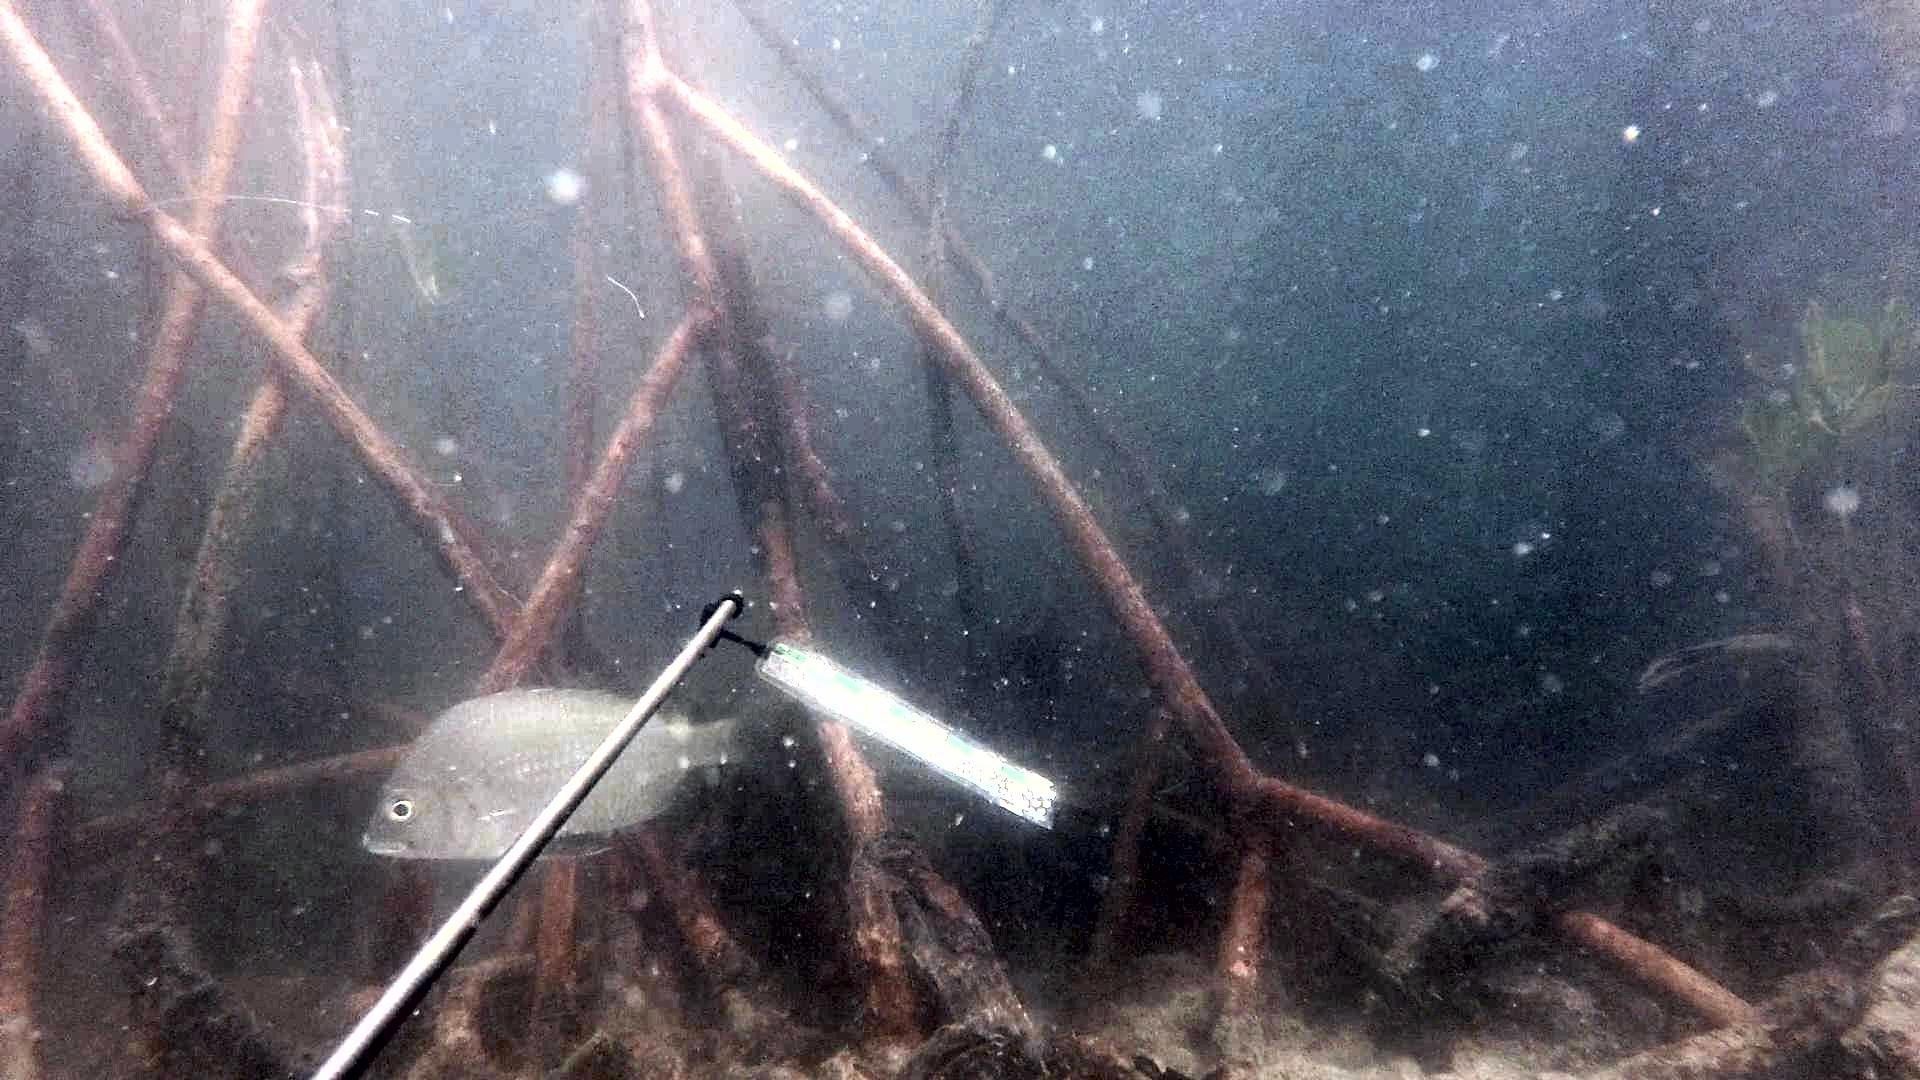acanthopagrus palmaris: (343, 678, 808, 873)
